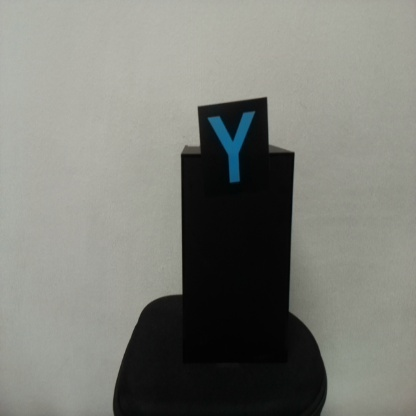id_14: (197, 105, 268, 190)
